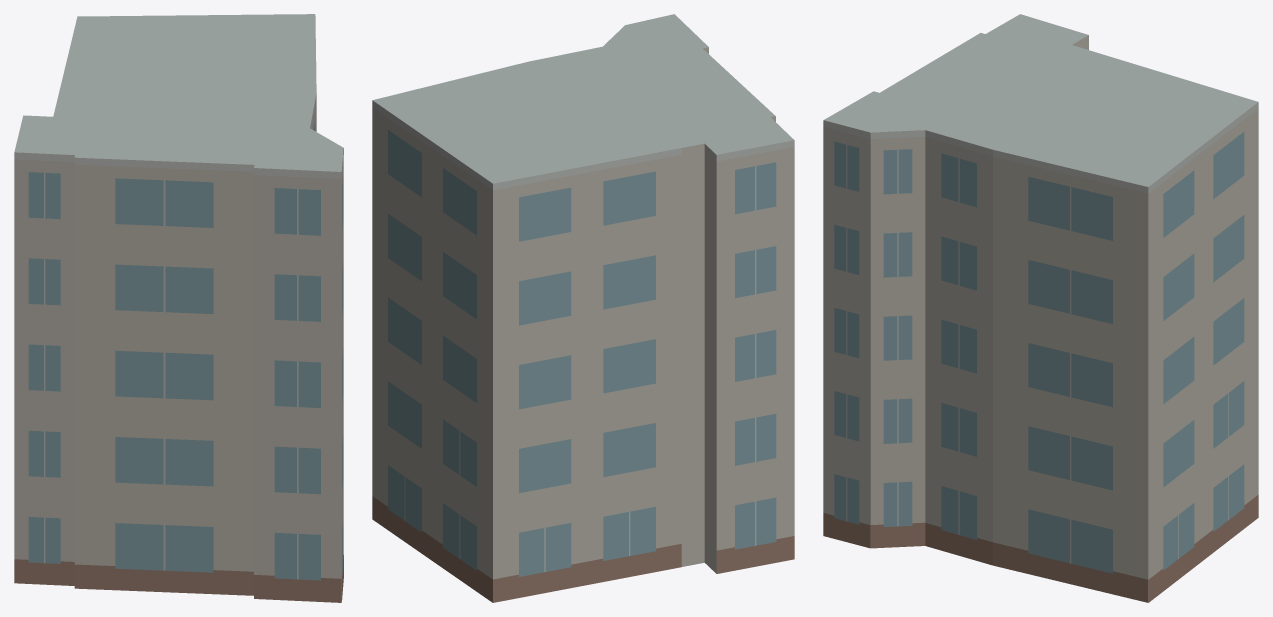
Rendered from survey-upis-32473139.glb.
3 renders of one model, left to right at view 1: azimuth 30°, elevation 25°; view 2: azimuth 150°, elevation 25°; view 3: azimuth 270°, elevation 25°, orthographic. The views are drawn at different scales.
Parts seen in each view (by area): view 1: survey-upis-32473139.tmp; view 2: survey-upis-32473139.tmp; view 3: survey-upis-32473139.tmp.
Part boxes in pixels (x1,y1,x2,y2): survey-upis-32473139.tmp: [14, 14, 343, 602]; survey-upis-32473139.tmp: [372, 14, 794, 602]; survey-upis-32473139.tmp: [823, 14, 1258, 602].
Size of the model in its own units: 13.62 by 15.25 by 14.47.
